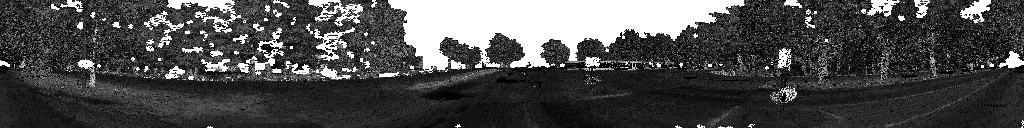light_pole: (548, 51, 556, 62)
traffic_pole: (582, 57, 601, 92), (778, 51, 788, 113), (718, 65, 723, 72)
